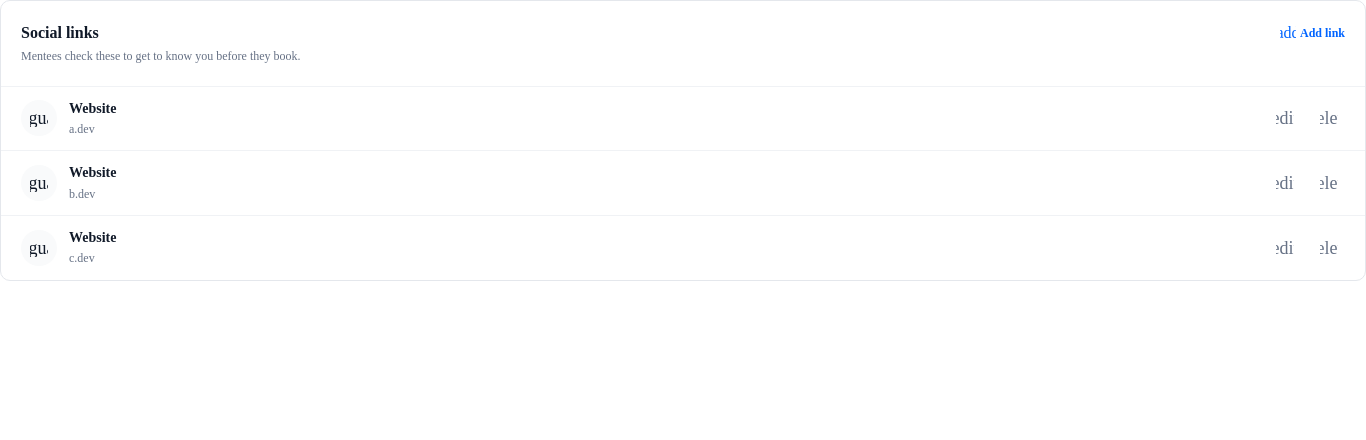
Test: SocialLinksCard › three websites: Website can’t be picked again
Click the button "add Add link".
click(1312, 33)  # box [1280,25,1345,41]
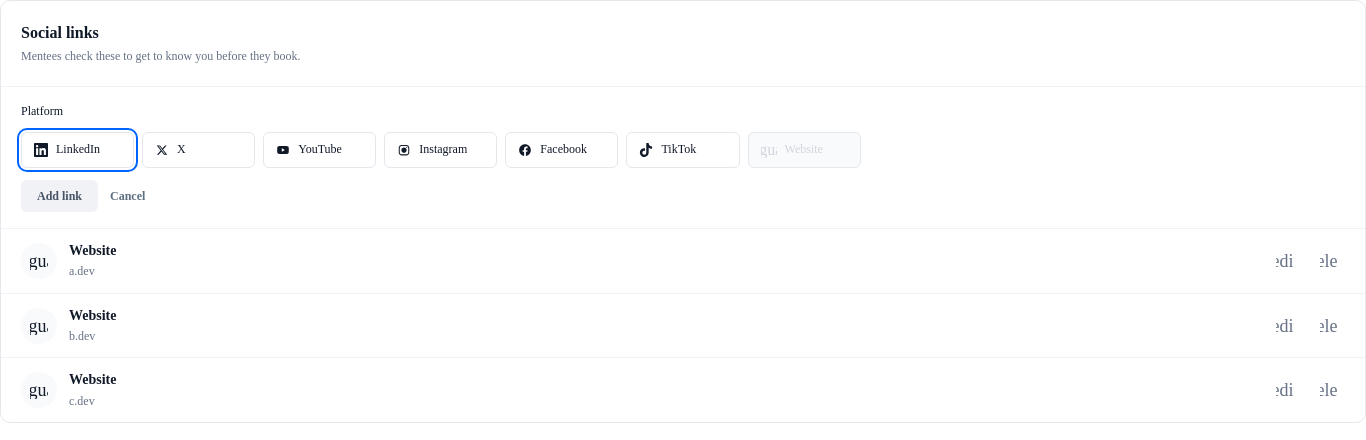
Expected: the button with aria-label "Edit Website, b.dev" is shown, [1269,310,1301,342]
Now the radio button labelled "Website" is disabled, box [748,132,861,168]
